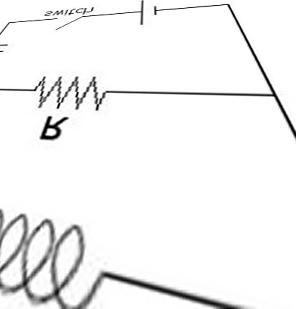resistor: (26, 63, 124, 110)
